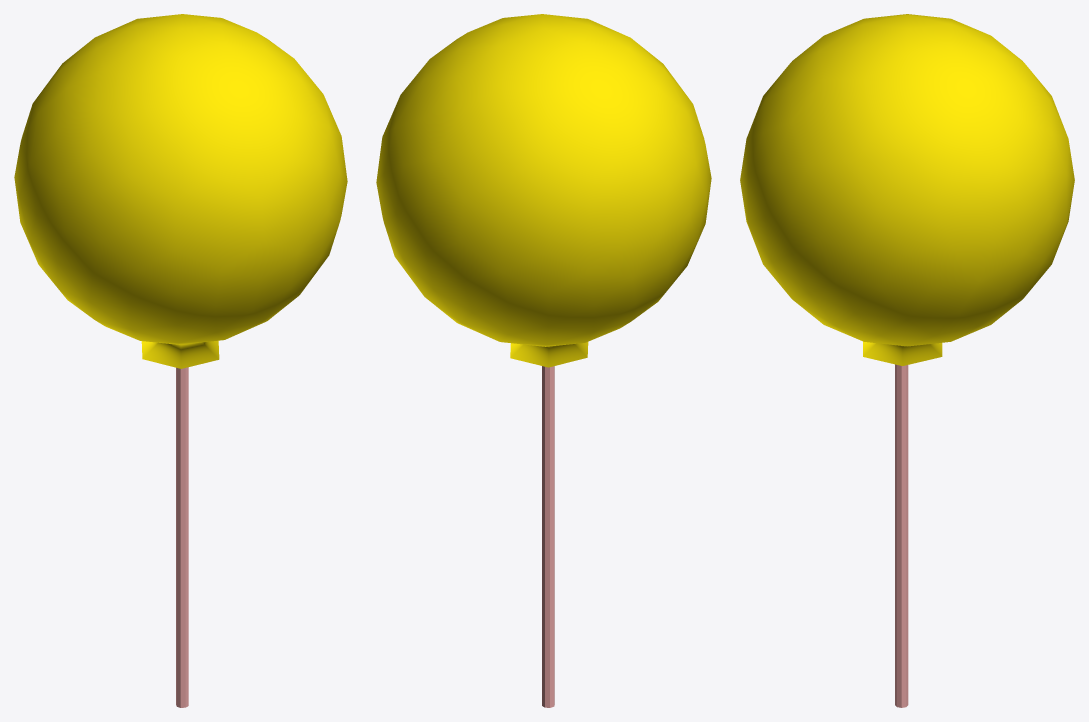
Rendered from sharik_yellow 1.fbx.
3 views of the same model, side by side, from view 1: azimuth 30°, elevation 25°; view 2: azimuth 150°, elevation 25°; view 3: azimuth 270°, elevation 25° (orthographic).
Visible parts, largest first — view 1: sharik_yellow, Cylinder, Cone; view 2: sharik_yellow, Cylinder, Cone; view 3: sharik_yellow, Cylinder, Cone.
Boxes of the visible parts, left/top/right/bottom form: sharik_yellow: left=14, top=14, right=347, bottom=344; Cylinder: left=176, top=367, right=188, bottom=707; Cone: left=141, top=340, right=219, bottom=368; sharik_yellow: left=376, top=14, right=711, bottom=346; Cylinder: left=542, top=366, right=554, bottom=707; Cone: left=510, top=342, right=588, bottom=367; sharik_yellow: left=740, top=14, right=1074, bottom=346; Cylinder: left=895, top=364, right=908, bottom=707; Cone: left=863, top=341, right=942, bottom=365.
Size of the model in its own units: 100 by 223 by 100.
